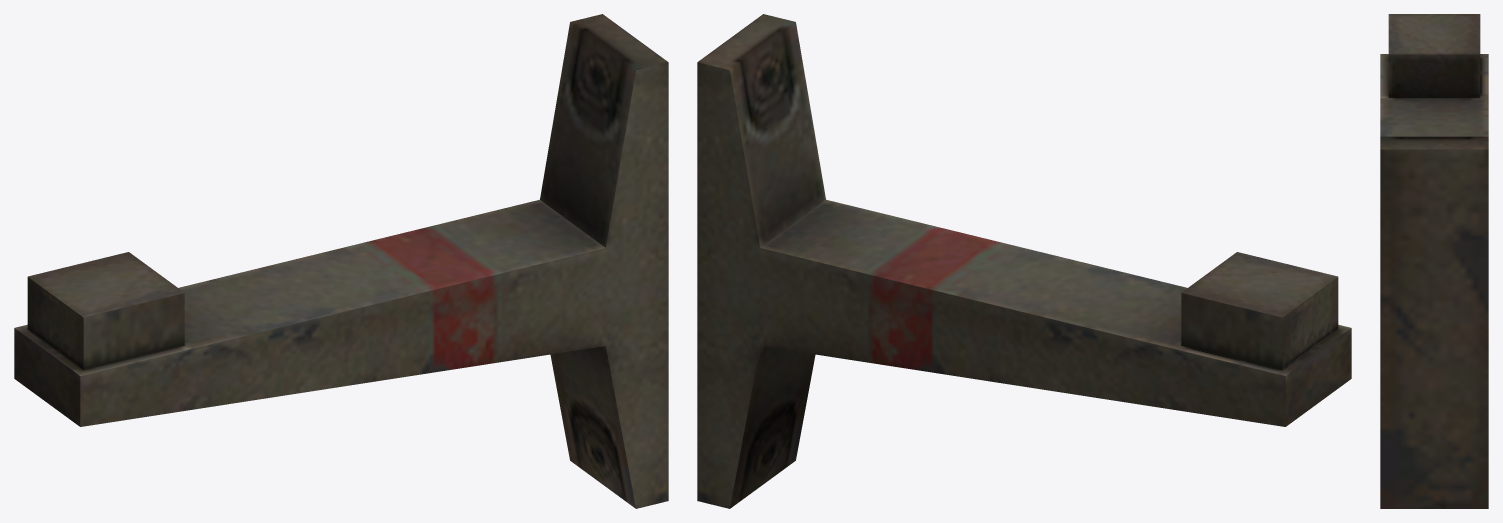
File: camera_flesher_base.DAE
3 views of the same model, side by side, from view 1: azimuth 30°, elevation 25°; view 2: azimuth 150°, elevation 25°; view 3: azimuth 270°, elevation 25° (orthographic). The views are drawn at different scales.
Parts seen in each view (by area): view 1: camera_flesher_base; view 2: camera_flesher_base; view 3: camera_flesher_base.
Part boxes in pixels (x1,y1,x2,y2): camera_flesher_base: [14, 14, 668, 508]; camera_flesher_base: [697, 14, 1351, 508]; camera_flesher_base: [1380, 14, 1488, 508].
Size of the model in its own units: 30.51 by 5.93 by 21.74.
